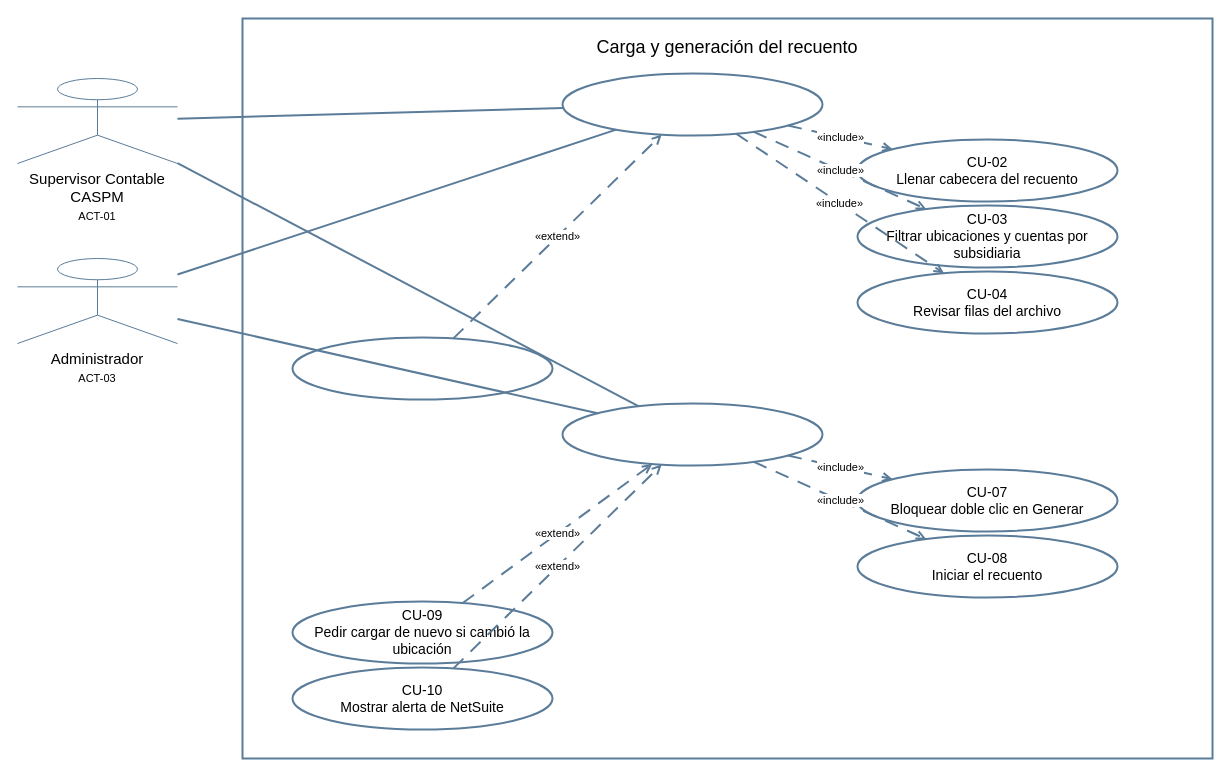
Image size: 1231x776. Some labels were removed from this diagram. Each missing label, with the box of its shape:
CU-01 Cargar archivo del recuento: (561, 72, 823, 136)
CU-05 Mostrar errores del archivo: (291, 336, 553, 400)
CU-06 Generar recuento: (561, 402, 823, 466)
